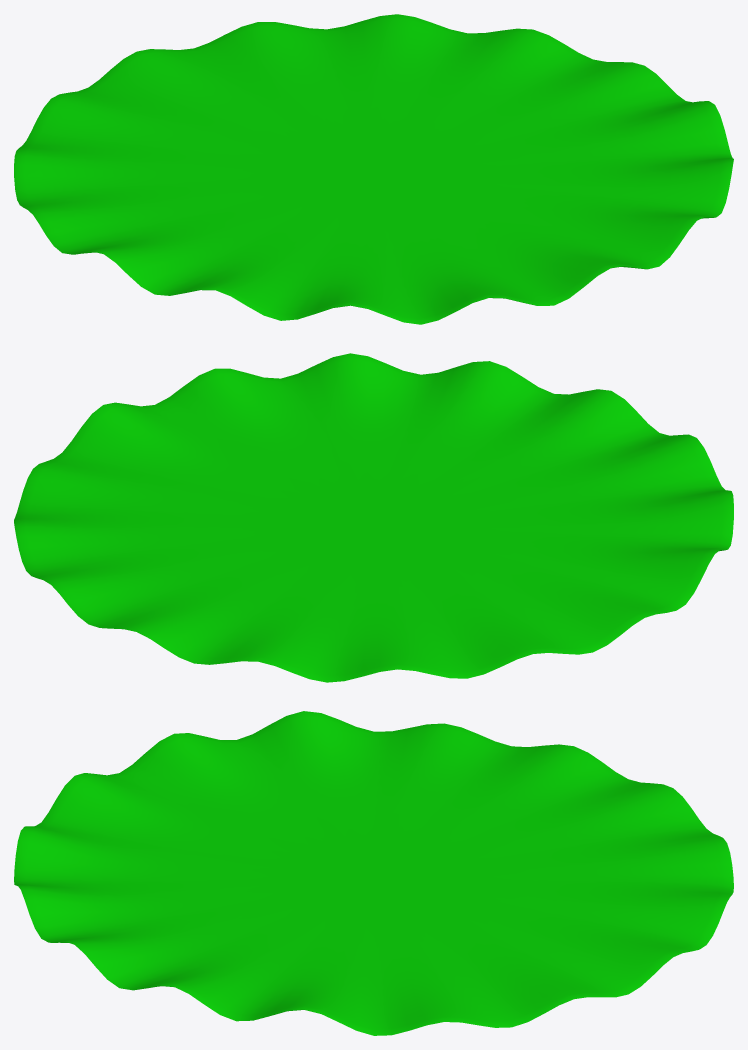
Rendered from cabbage_sliced.fbx.
3 renders of one model, top to bottom at view 1: azimuth 30°, elevation 25°; view 2: azimuth 150°, elevation 25°; view 3: azimuth 270°, elevation 25°, orthographic.
Parts seen in each view (by area): view 1: lettuce; view 2: lettuce; view 3: lettuce.
Part boxes in pixels (x1,y1,x2,y2): lettuce: (14, 14, 733, 324); lettuce: (14, 353, 733, 682); lettuce: (14, 711, 733, 1035).
Size of the model in its own units: 114 by 4.78 by 114.
